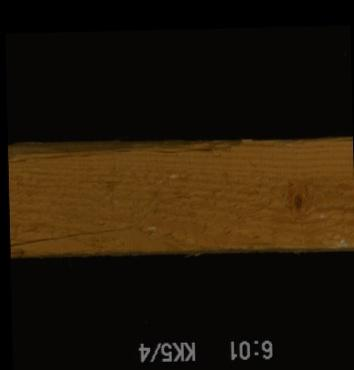small_knot: (285, 187, 306, 216)
split: (9, 222, 137, 246)
wave: (7, 141, 245, 162)
